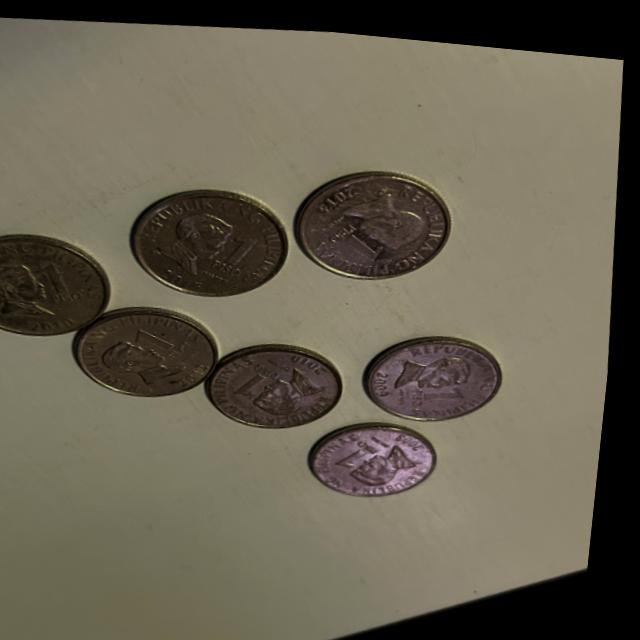1_Old_Front: (134, 307, 206, 358), (35, 250, 93, 312), (327, 210, 396, 262), (241, 348, 291, 399), (218, 221, 266, 270), (404, 368, 471, 400), (339, 423, 388, 462)
